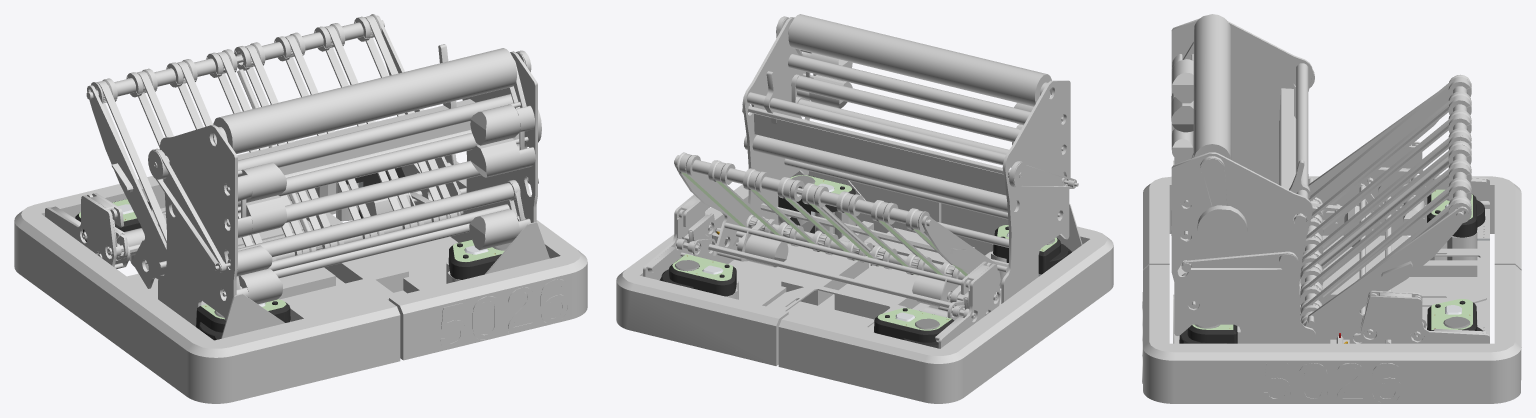
Rendered from robot.glb.
The picture shows the model from 3 angles, left to right: view 1: azimuth 30°, elevation 25°; view 2: azimuth 150°, elevation 25°; view 3: azimuth 270°, elevation 25°; orthographic projection. The views are drawn at different scales.
Visible parts, largest first — view 1: id6, SDS MK5n Top Assembly (A); view 2: id6, SDS MK5n Top Assembly (A); view 3: id6, SDS MK5n Top Assembly (A).
Boxes of the visible parts, bbox=[...] form: id6: bbox=[14, 14, 587, 403]; SDS MK5n Top Assembly (A): bbox=[75, 167, 511, 340]; id6: bbox=[616, 14, 1113, 403]; SDS MK5n Top Assembly (A): bbox=[659, 172, 1071, 348]; id6: bbox=[1142, 14, 1521, 403]; SDS MK5n Top Assembly (A): bbox=[1179, 189, 1489, 343].
Size of the model in its own units: 0.8643 by 0.6271 by 0.7627.
